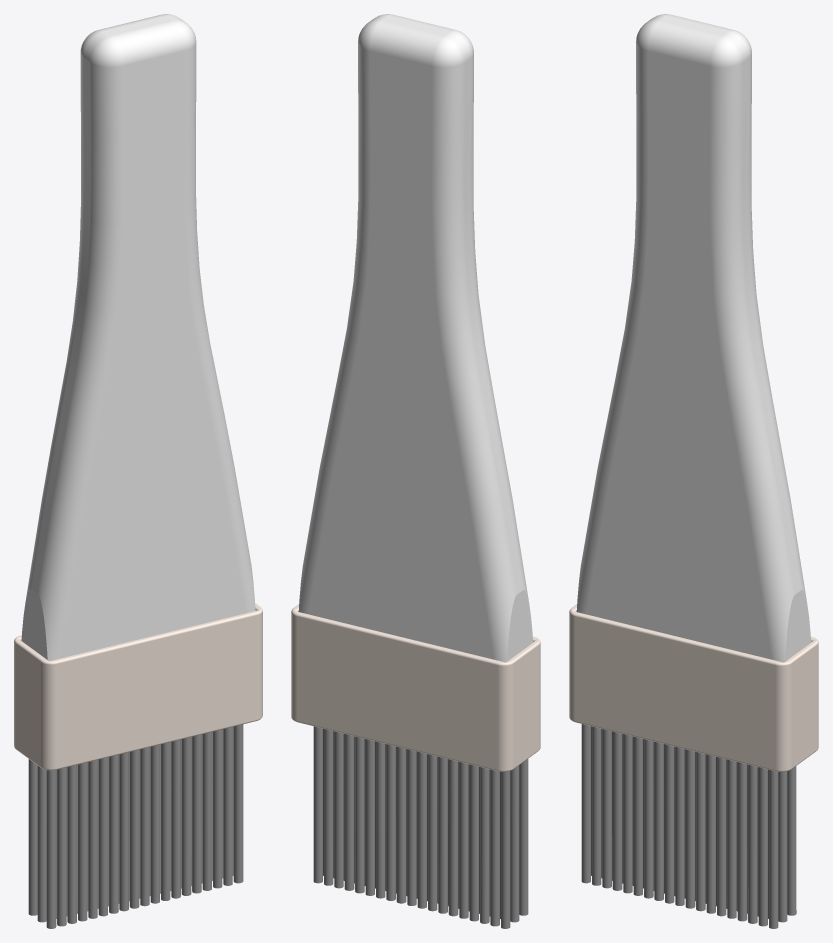
Rendered from CuttingFluidBrush v1.fbx.
The picture shows the model from 3 angles, left to right: view 1: azimuth 30°, elevation 25°; view 2: azimuth 150°, elevation 25°; view 3: azimuth 330°, elevation 25°; orthographic projection.
Parts seen in each view (by area): view 1: Body1, Body59, Body2, Body56, Body26, Body41, Body11, Body44, Body5, Body50, Body20, Body23 (+11 smaller); view 2: Body1, Body59, Body34, Body49, Body4, Body19, Body13, Body7, Body46, Body22, Body58, Body10 (+11 smaller); view 3: Body1, Body59, Body47, Body32, Body11, Body53, Body44, Body2, Body5, Body8, Body20, Body38 (+11 smaller).
Part boxes in pixels (bbox=[...]): Body1: bbox=[21, 14, 255, 660]; Body59: bbox=[14, 603, 262, 770]; Body2: bbox=[46, 770, 56, 928]; Body56: bbox=[233, 724, 243, 883]; Body26: bbox=[129, 750, 139, 908]; Body41: bbox=[181, 737, 191, 895]; Body11: bbox=[78, 762, 87, 921]; Body44: bbox=[192, 734, 201, 893]; Body5: bbox=[57, 767, 66, 926]; Body50: bbox=[213, 729, 222, 888]; Body20: bbox=[109, 755, 118, 913]; Body23: bbox=[119, 752, 128, 911]; Body1: bbox=[298, 14, 532, 662]; Body59: bbox=[291, 604, 540, 771]; Body34: bbox=[396, 746, 406, 903]; Body49: bbox=[344, 734, 354, 890]; Body4: bbox=[501, 771, 510, 928]; Body19: bbox=[448, 759, 458, 916]; Body13: bbox=[469, 764, 478, 921]; Body7: bbox=[490, 769, 499, 926]; Body46: bbox=[355, 736, 364, 893]; Body22: bbox=[438, 757, 447, 913]; Body58: bbox=[313, 726, 322, 883]; Body10: bbox=[480, 767, 489, 923]; Body1: bbox=[576, 14, 810, 662]; Body59: bbox=[569, 604, 818, 771]; Body47: bbox=[737, 762, 747, 921]; Body32: bbox=[685, 749, 695, 908]; Body11: bbox=[612, 731, 622, 890]; Body53: bbox=[758, 767, 767, 926]; Body44: bbox=[727, 759, 736, 918]; Body2: bbox=[581, 724, 590, 883]; Body5: bbox=[592, 726, 601, 885]; Body8: bbox=[602, 729, 611, 888]; Body20: bbox=[644, 739, 653, 898]; Body38: bbox=[706, 754, 715, 913].
Size of the model in its own units: 1.06 by 4 by 0.3082.
